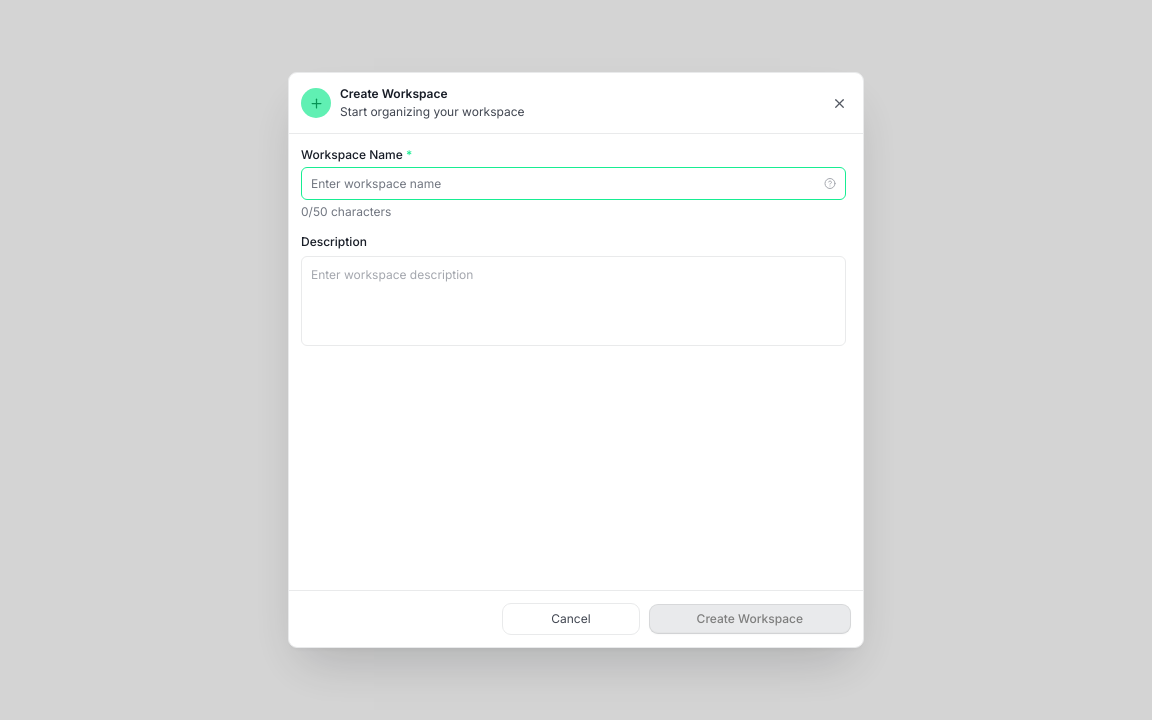
Test: CreateWorkspaceModal › form validation › shows validation error for duplicate name
Type "Existing Workspace" into the field labelled "Workspace Name *" at (573, 184), box x1=301 y1=167 x2=846 y2=200
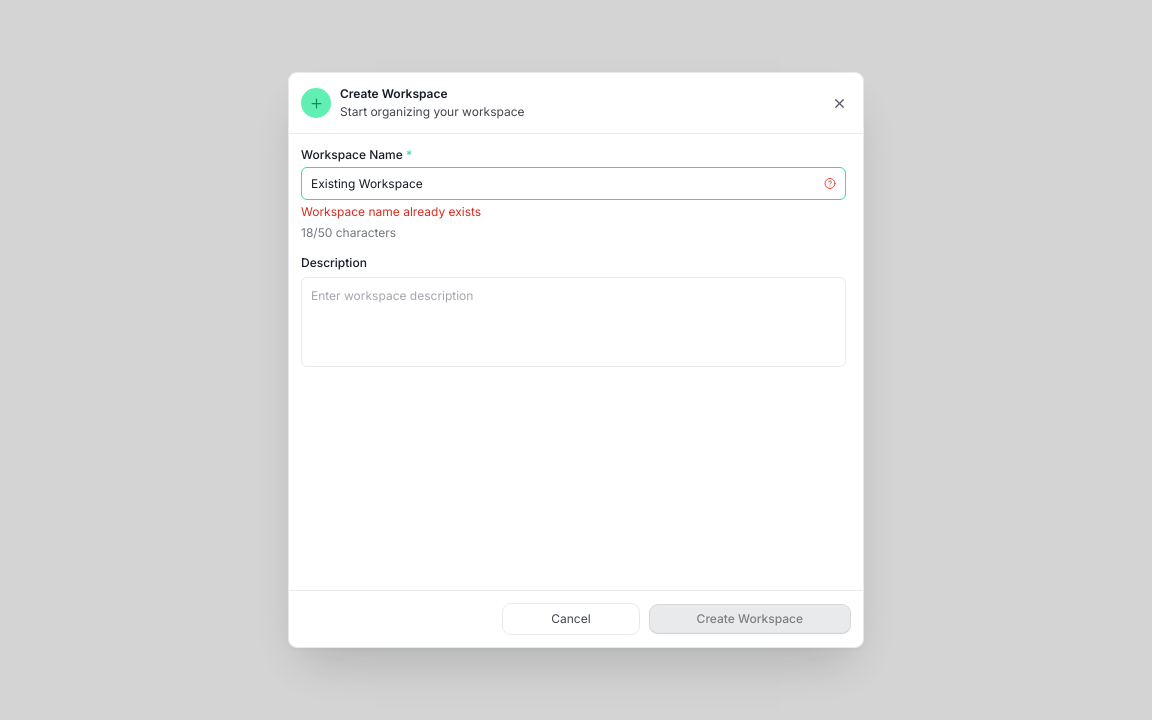
Now the text "Workspace name already exists" is shown, box x1=301 y1=204 x2=481 y2=219
